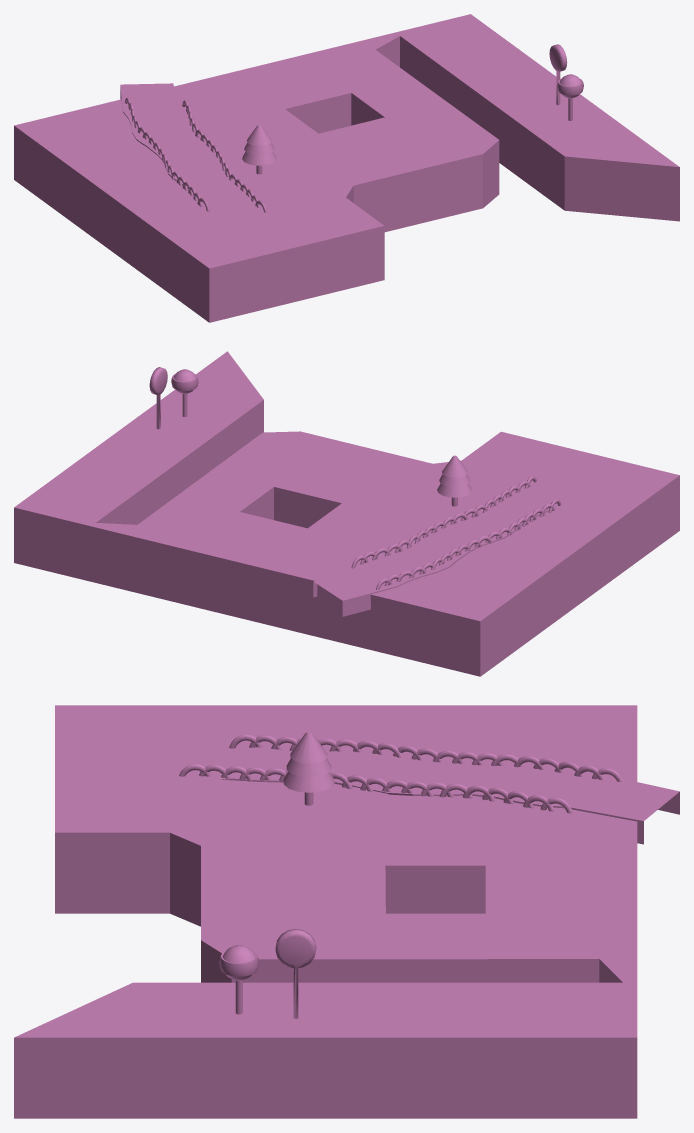
3 renders of one model, top to bottom at view 1: azimuth 30°, elevation 25°; view 2: azimuth 150°, elevation 25°; view 3: azimuth 270°, elevation 25°, orthographic. The views are drawn at different scales.
Parts seen in each view (by area): view 1: Box269, Box267, Torus033, Cylinder064, Sphere022, Cylinder065; view 2: Box269, Box267, Torus033, Cylinder064, Sphere022, Cylinder065; view 3: Box269, Box267, Torus033, Cylinder064, Cylinder065, Sphere022.
Part boxes in pixels (bbox=[...]): Box269: bbox=[14, 14, 679, 322]; Box267: bbox=[120, 83, 293, 222]; Torus033: bbox=[124, 97, 267, 212]; Cylinder064: bbox=[242, 124, 276, 174]; Sphere022: bbox=[557, 74, 583, 120]; Cylinder065: bbox=[549, 44, 567, 105]; Box269: bbox=[14, 351, 679, 676]; Box267: bbox=[313, 467, 568, 616]; Torus033: bbox=[351, 476, 561, 589]; Cylinder064: bbox=[437, 455, 472, 506]; Sphere022: bbox=[171, 369, 198, 416]; Cylinder065: bbox=[149, 367, 167, 429]; Box269: bbox=[14, 705, 637, 1118]; Box267: bbox=[140, 747, 679, 844]; Torus033: bbox=[179, 734, 622, 813]; Cylinder064: bbox=[283, 731, 334, 805]; Cylinder065: bbox=[275, 929, 316, 1018]; Sphere022: bbox=[219, 945, 259, 1014].
Size of the model in its own units: 2718 by 643 by 2303.
